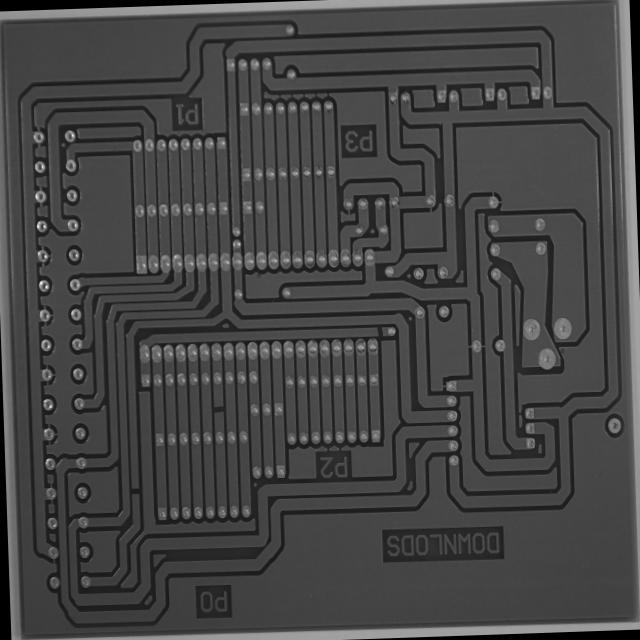open_circuit: (212, 401, 226, 416), (374, 324, 386, 338), (130, 485, 142, 497)
